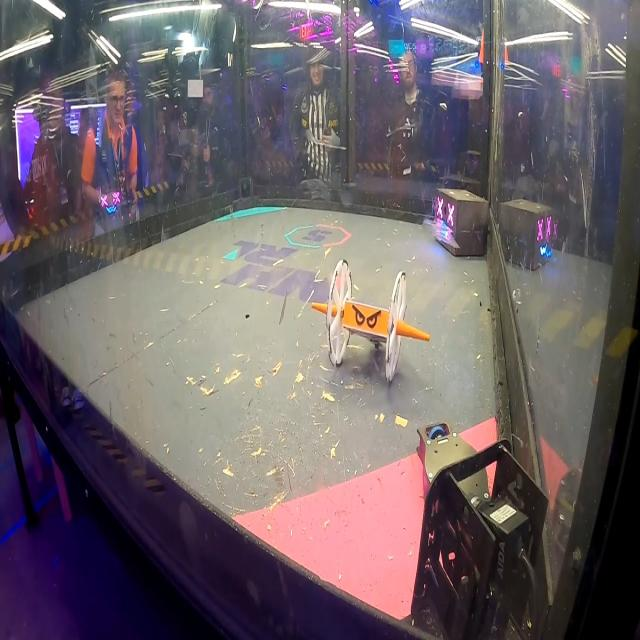brick: (432, 183, 493, 262)
